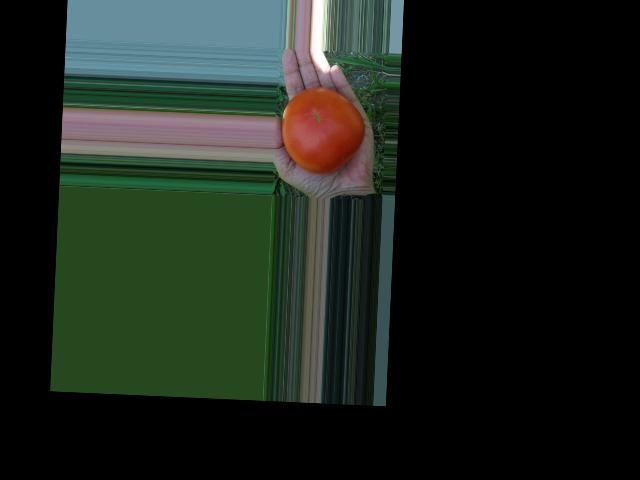tomato: (280, 85, 367, 174)
